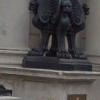Statue: (11, 3, 94, 71)
